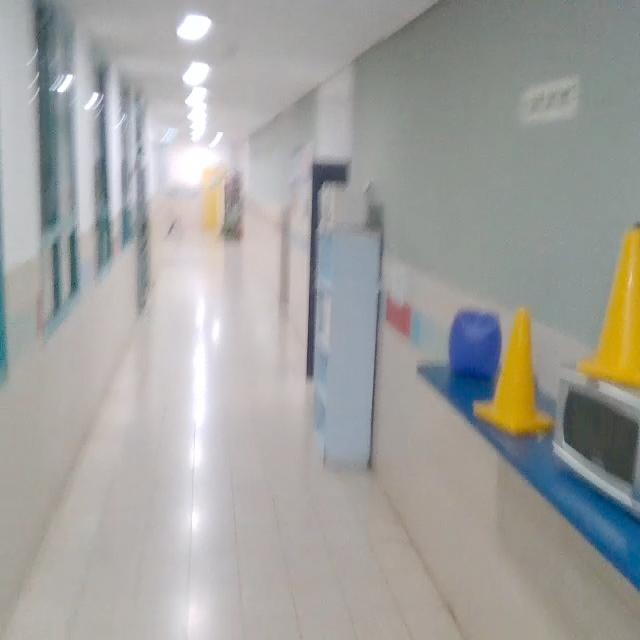cone: (473, 303, 557, 434), (578, 228, 640, 383)
cube: (452, 309, 503, 381)
